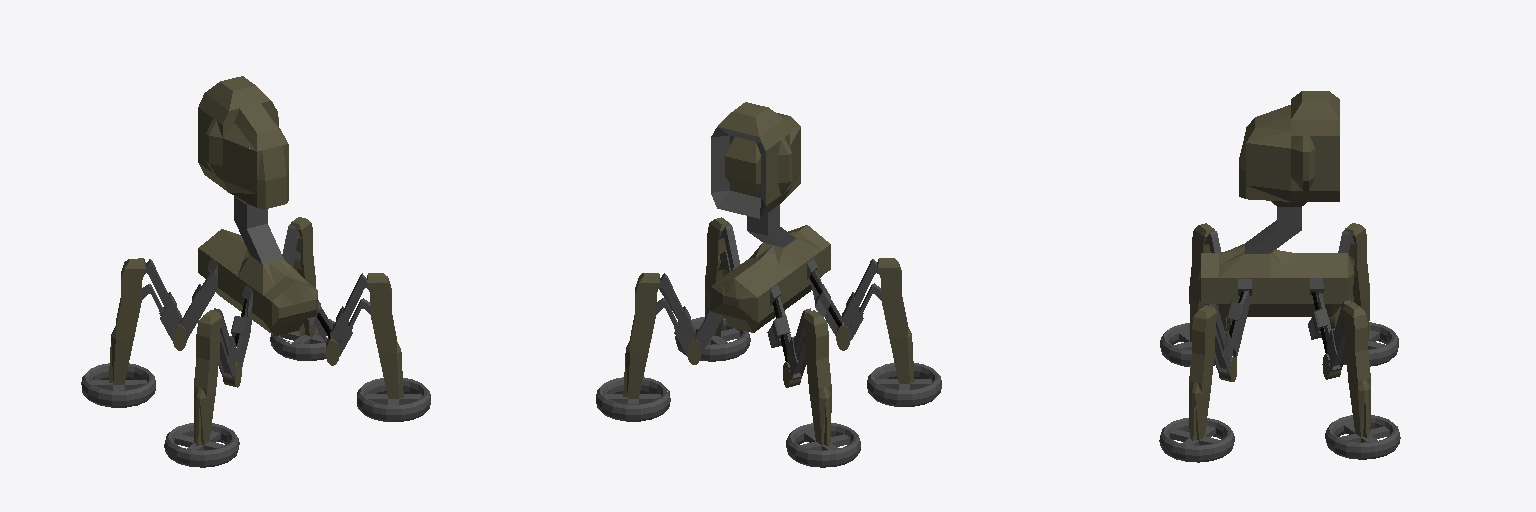
3 renders of one model, left to right at view 1: azimuth 30°, elevation 25°; view 2: azimuth 150°, elevation 25°; view 3: azimuth 270°, elevation 25°, orthographic.
Parts seen in each view (by area): view 1: enemy_robot03; view 2: enemy_robot03; view 3: enemy_robot03.
Boxes of the visible parts, x1,y1,x2,y2 form: enemy_robot03: [81, 76, 430, 467]; enemy_robot03: [596, 102, 941, 467]; enemy_robot03: [1159, 91, 1400, 462].
Size of the model in its own units: 1.68 by 1.98 by 1.36.
Materials: 2 (1 with a texture image).